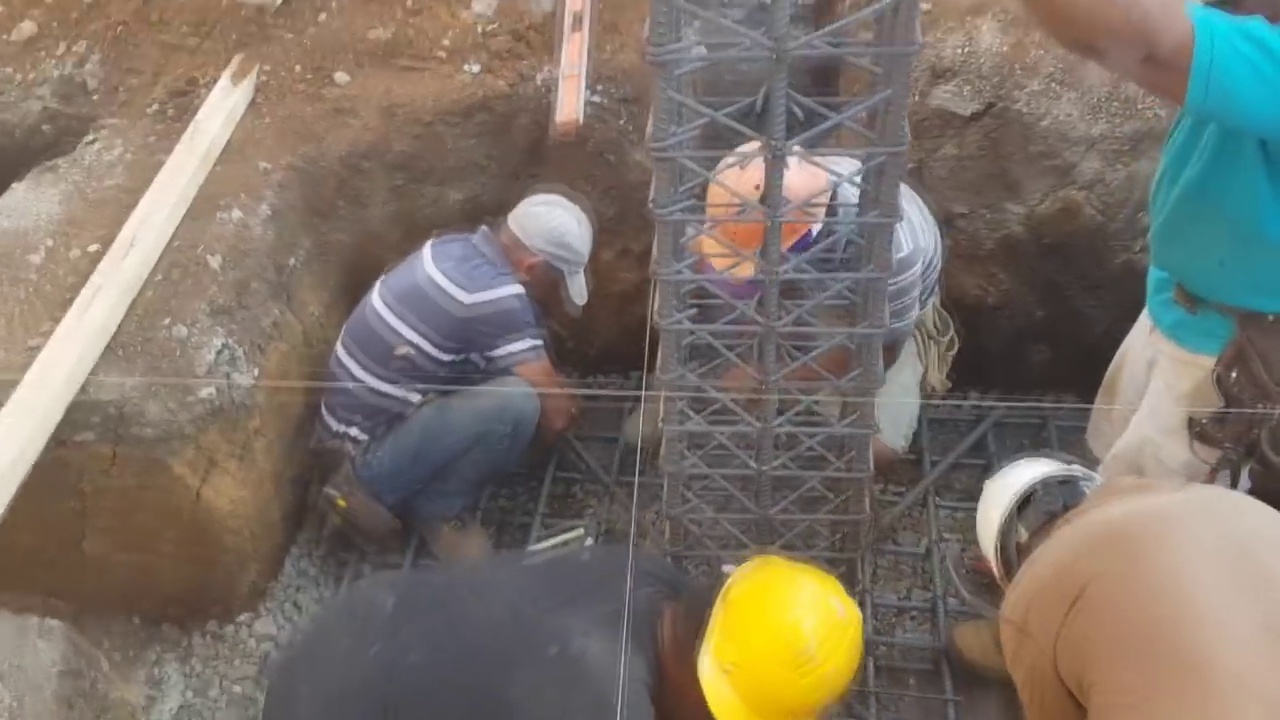helmet: (699, 561, 876, 706), (710, 131, 842, 273), (986, 456, 1092, 590)
helmet-off: (502, 188, 590, 318)
helmet-on: (638, 555, 877, 714), (702, 131, 865, 285), (984, 455, 1122, 593)
person: (249, 540, 886, 716), (1066, 0, 1277, 489), (332, 175, 592, 569), (670, 131, 950, 446), (970, 443, 1280, 720)
